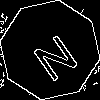N: (25, 25, 81, 84)
